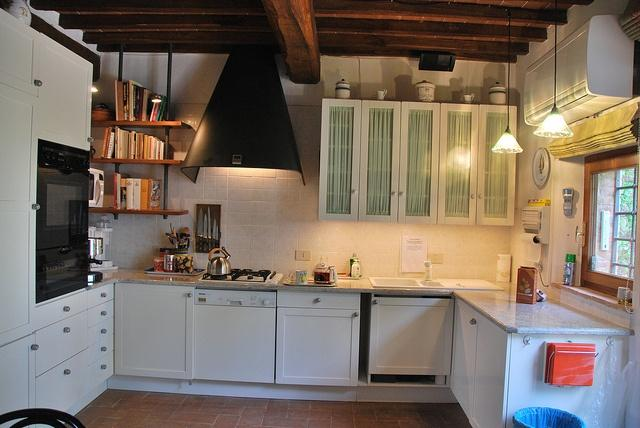AC: (521, 12, 634, 124)
Lemari: (316, 98, 518, 226), (0, 0, 41, 427)
